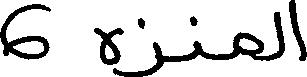X: (0, 0, 47, 64), (133, 13, 161, 76), (95, 23, 122, 76), (289, 0, 306, 65), (234, 27, 263, 65), (273, 7, 284, 64), (193, 11, 201, 63)
